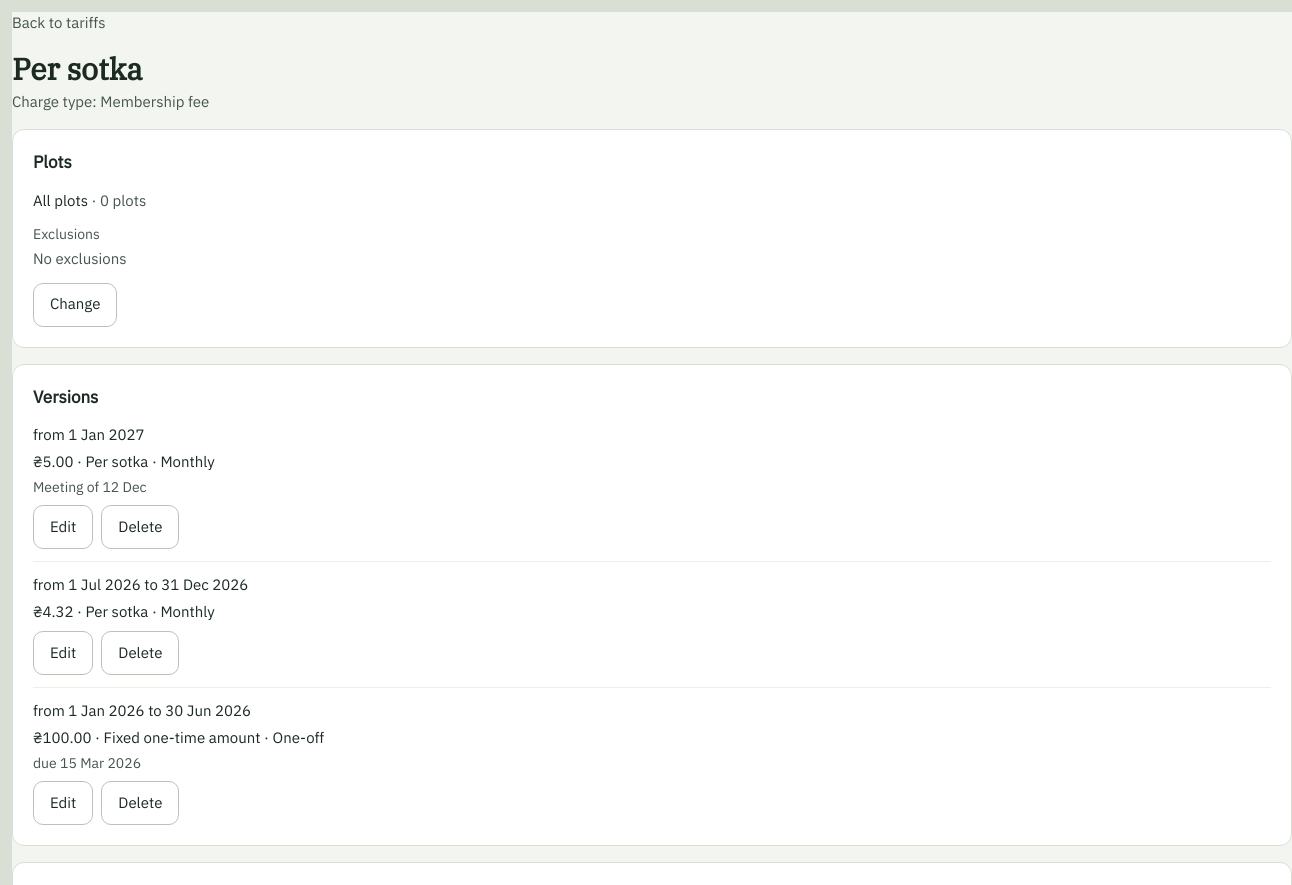
Test case: TariffPage › disables the controls when saving a version in use fails with 409
Click the button "Edit" below "from 1 Jan 2027" at (63, 527), box top-left (33, 505), bottom-right (93, 549)
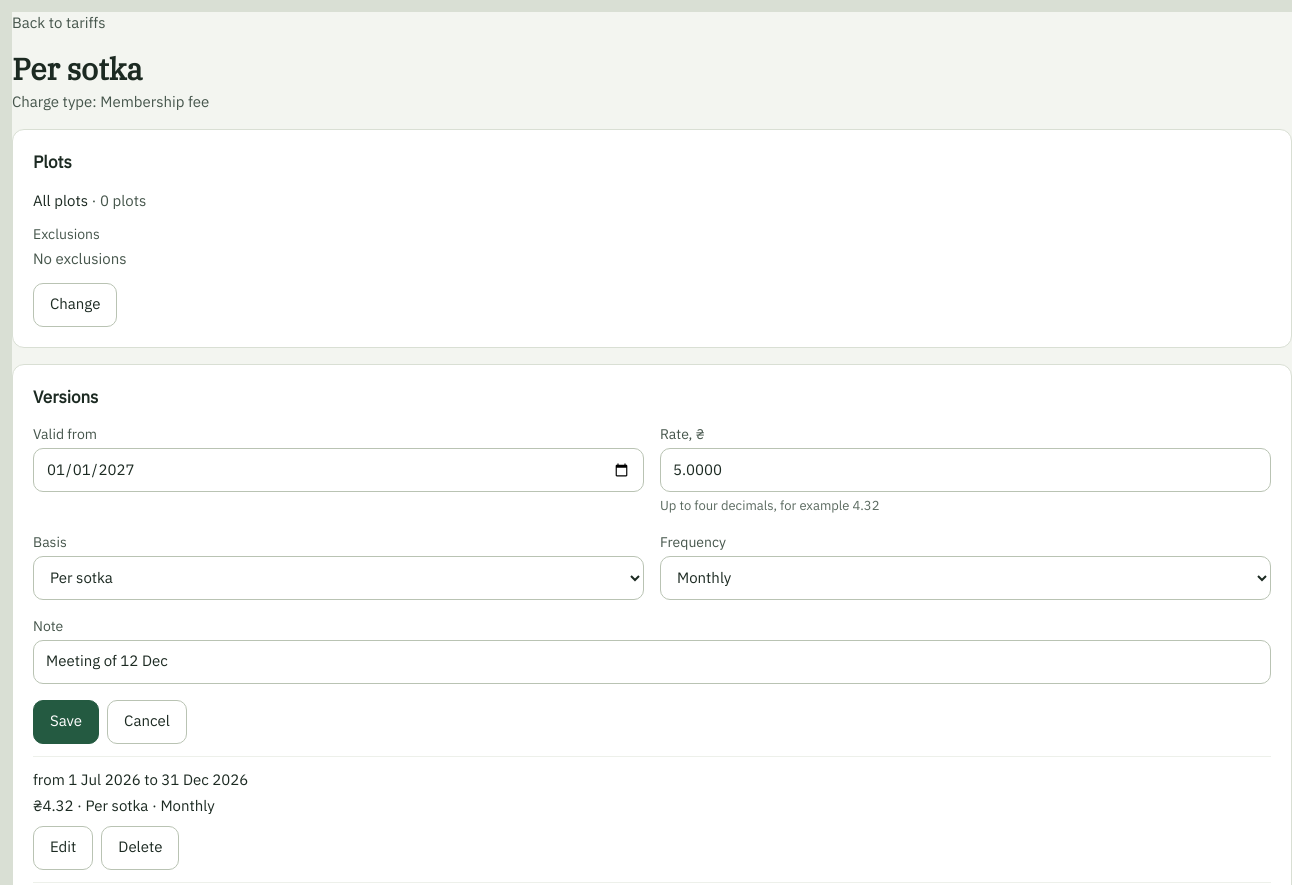
Click the button "Save" at (66, 722), box top-left (33, 700), bottom-right (99, 744)
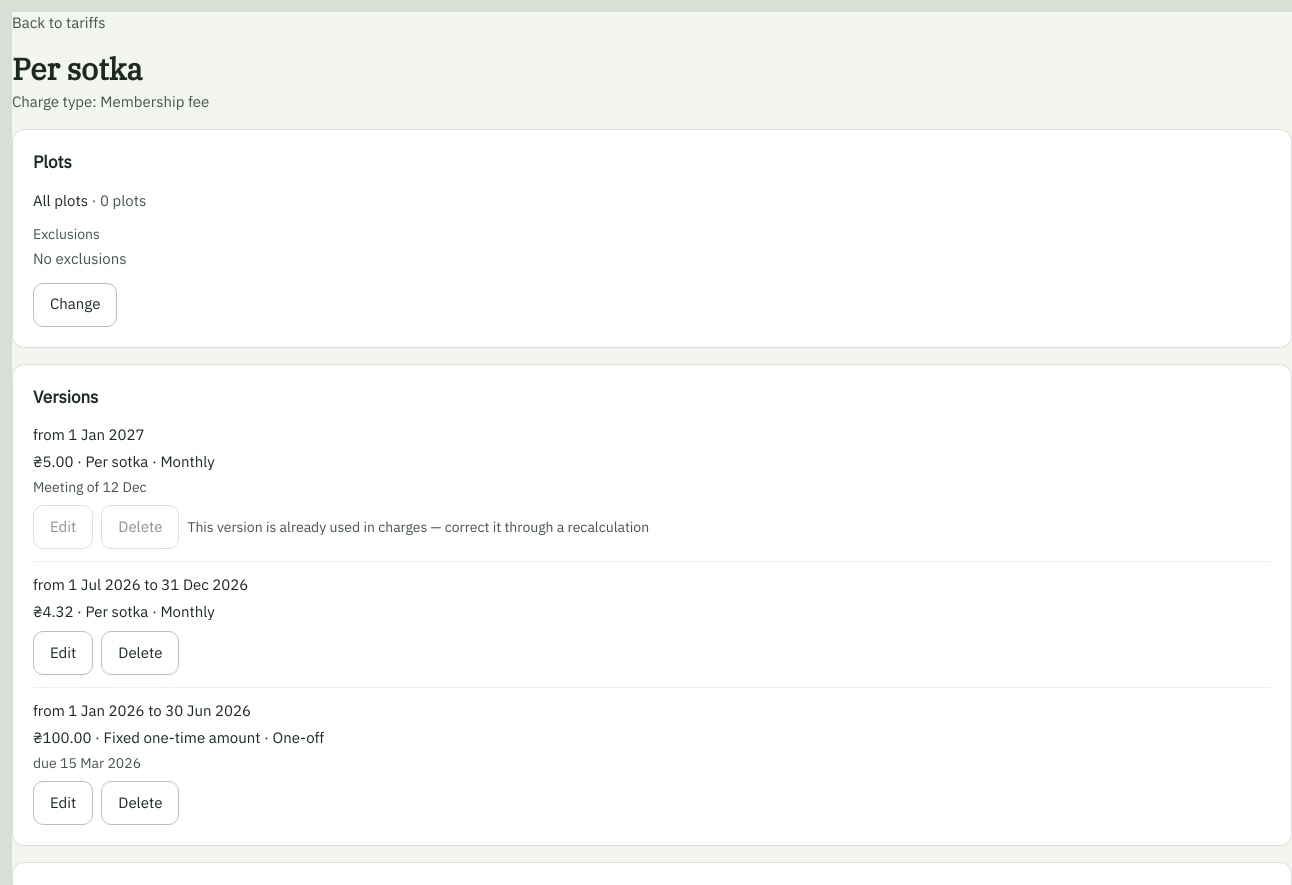
Expected: the text "already used in charges" is shown, top-left (187, 518), bottom-right (649, 536)
Expected: the button "Edit" below "from 1 Jan 2027" is disabled, top-left (33, 505), bottom-right (93, 549)
